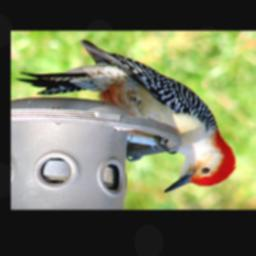Woodpecker: (16, 39, 236, 193)
